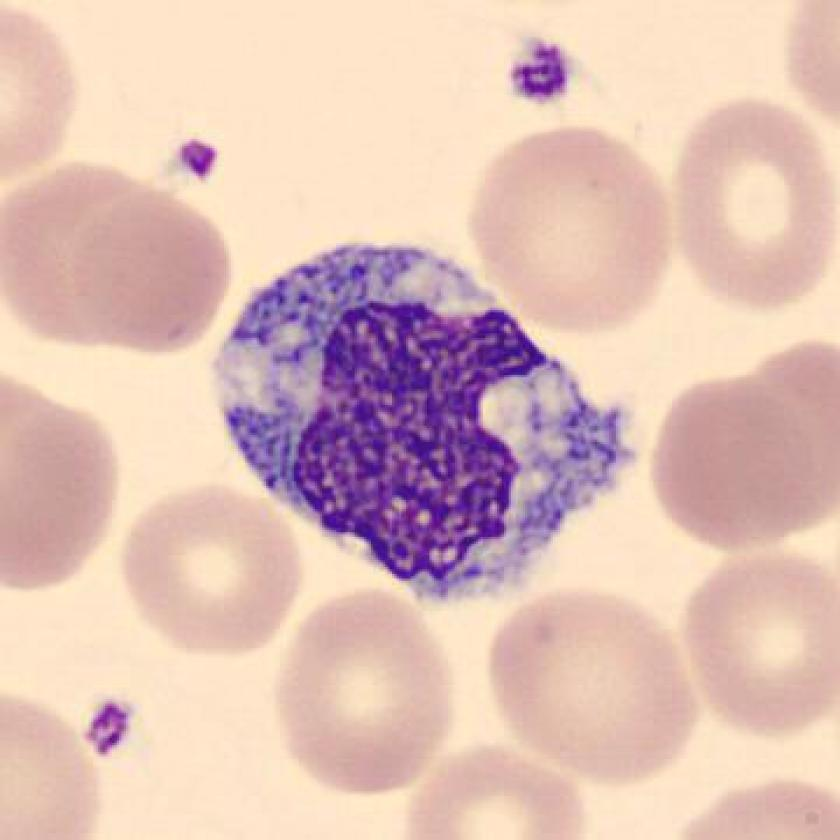monocyte: (190, 216, 650, 626)
